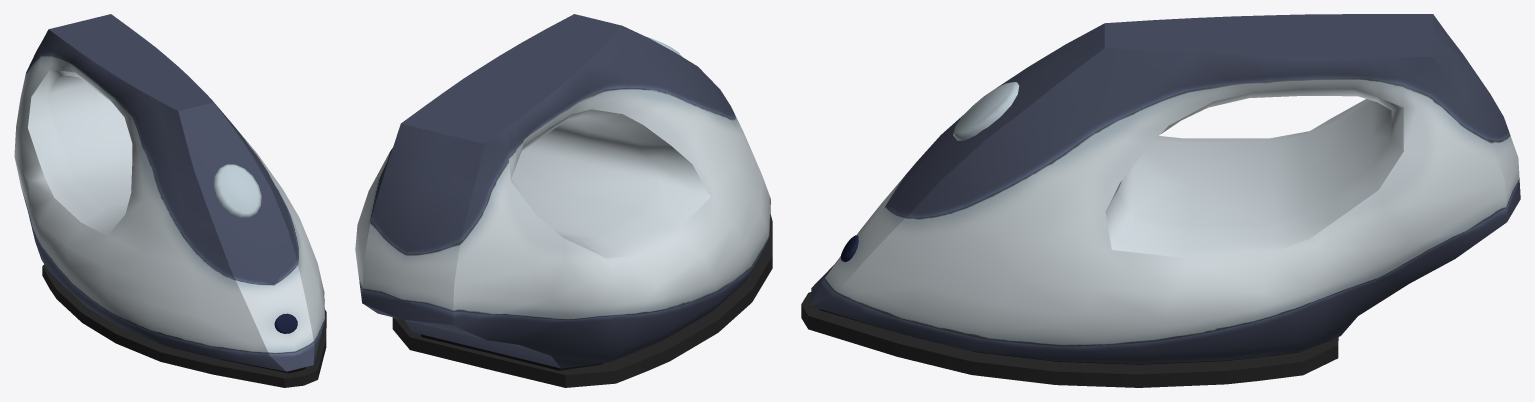
File: iron.FBX
3 renders of one model, left to right at view 1: azimuth 30°, elevation 25°; view 2: azimuth 150°, elevation 25°; view 3: azimuth 270°, elevation 25°, orthographic. The views are drawn at different scales.
Parts seen in each view (by area): view 1: Box001; view 2: Box001; view 3: Box001.
Part boxes in pixels (x1,y1,x2,y2): Box001: [14, 14, 326, 387]; Box001: [355, 14, 772, 387]; Box001: [801, 14, 1520, 387].
Bounding box in the file's own units: 12.99 × 11.7 × 26.97.
Materials: 3 (1 with a texture image).
